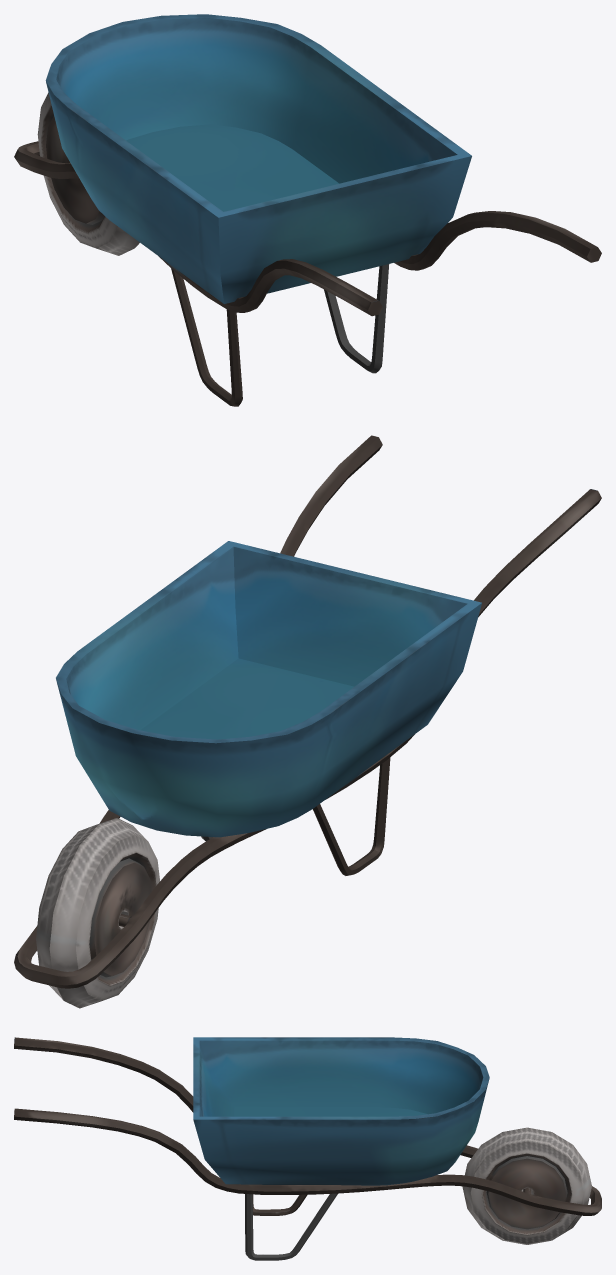
File: WheelBarrow.fbx
The picture shows the model from 3 angles, top to bottom: view 1: azimuth 30°, elevation 25°; view 2: azimuth 150°, elevation 25°; view 3: azimuth 270°, elevation 25°; orthographic projection. The views are drawn at different scales.
Parts seen in each view (by area): view 1: Wheelbarrow_low; view 2: Wheelbarrow_low; view 3: Wheelbarrow_low.
Boxes of the visible parts, x1=… form: Wheelbarrow_low: x1=14, y1=14, x2=601, y2=406; Wheelbarrow_low: x1=14, y1=435, x2=601, y2=1008; Wheelbarrow_low: x1=14, y1=1037, x2=601, y2=1260.
Size of the model in its own units: 1.02 by 0.9857 by 3.08.
